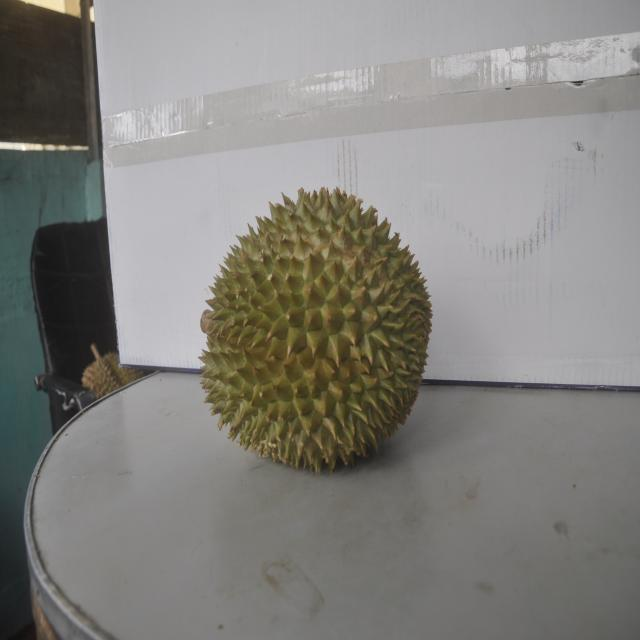mature: (200, 182, 431, 474), (82, 345, 145, 398)
